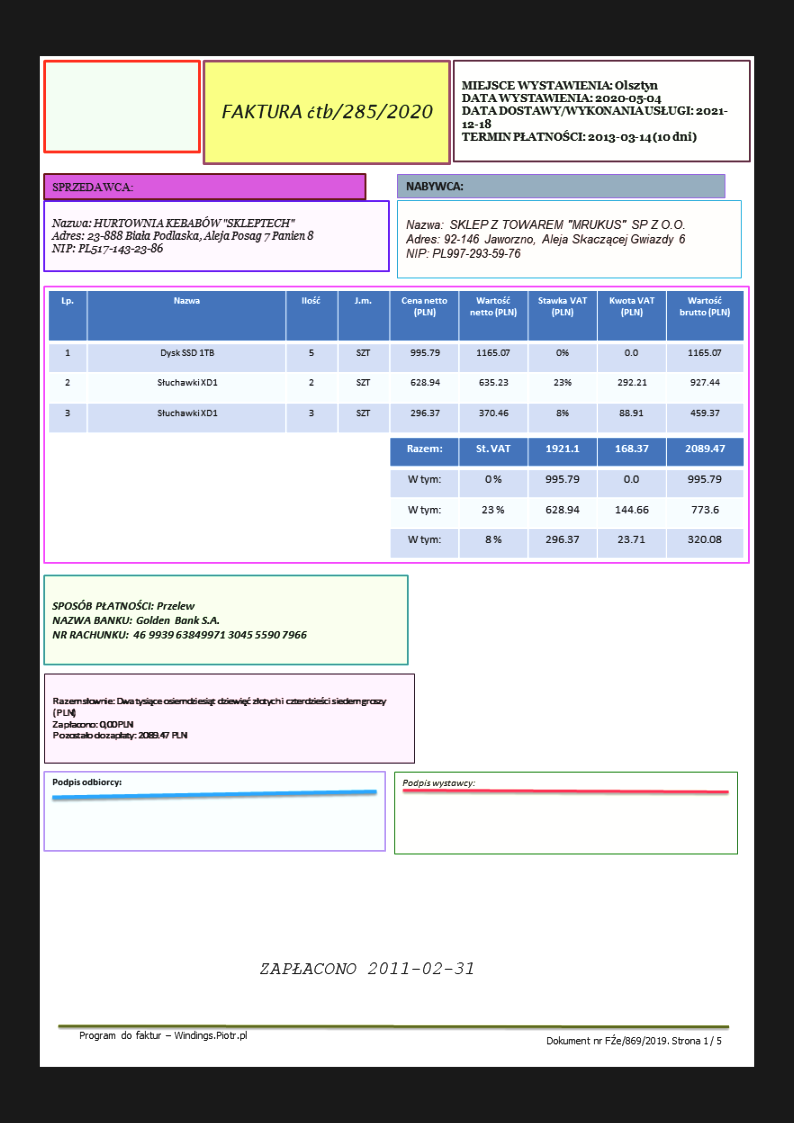Table: (47, 290, 744, 434), (388, 436, 745, 559)
TextBox: (460, 79, 729, 144), (50, 694, 389, 741), (404, 216, 688, 261), (51, 598, 309, 642), (50, 215, 313, 256), (220, 99, 434, 124), (258, 961, 476, 979), (544, 1033, 723, 1052), (77, 1029, 248, 1043), (50, 180, 135, 195), (49, 776, 126, 790), (404, 179, 464, 195), (401, 778, 476, 790)
